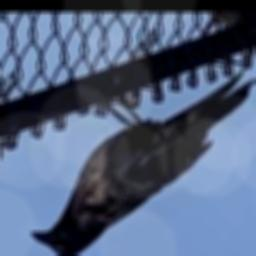Crow: (30, 69, 256, 256)
